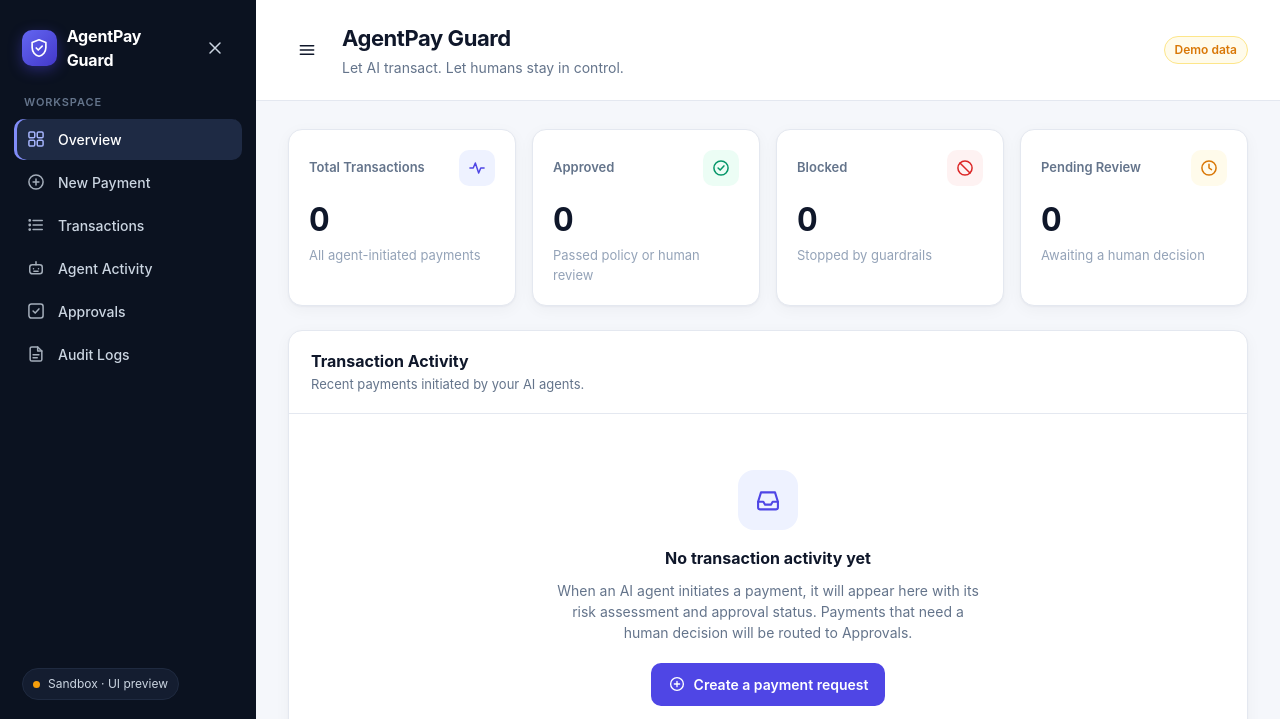
Scenario: App navigation › opens the risk assessment form from New Payment
The width and height of the screenshot is (1280, 719).
Click the button "New Payment".
click(128, 182)  # box x1=14 y1=162 x2=242 y2=202
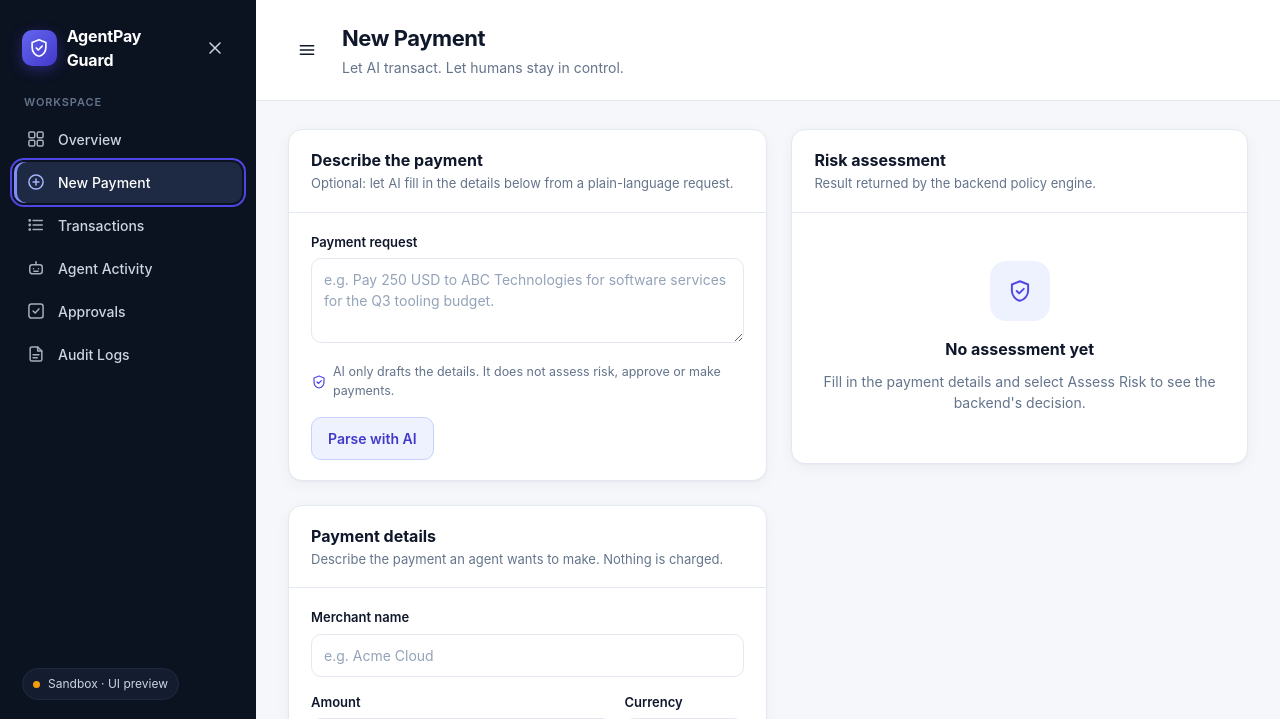
Expected: the heading "New Payment" is shown, x1=342 y1=25 x2=485 y2=51
Expected: the text "Demo data" is gone
